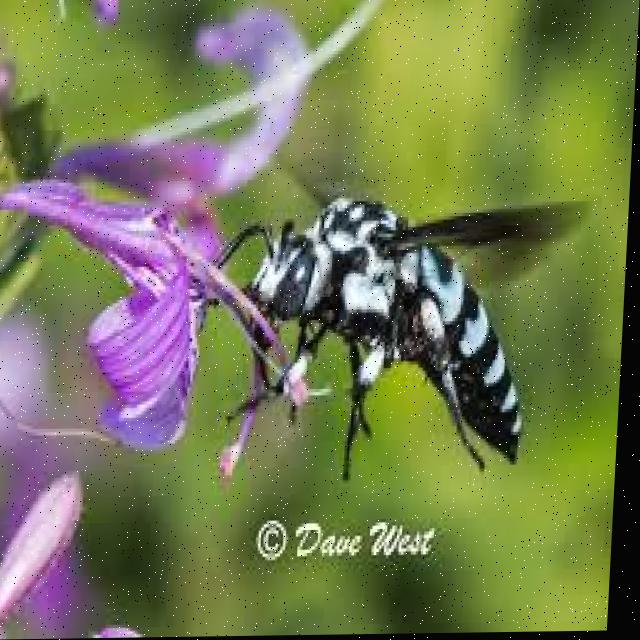Thyreus: (210, 156, 555, 501)
